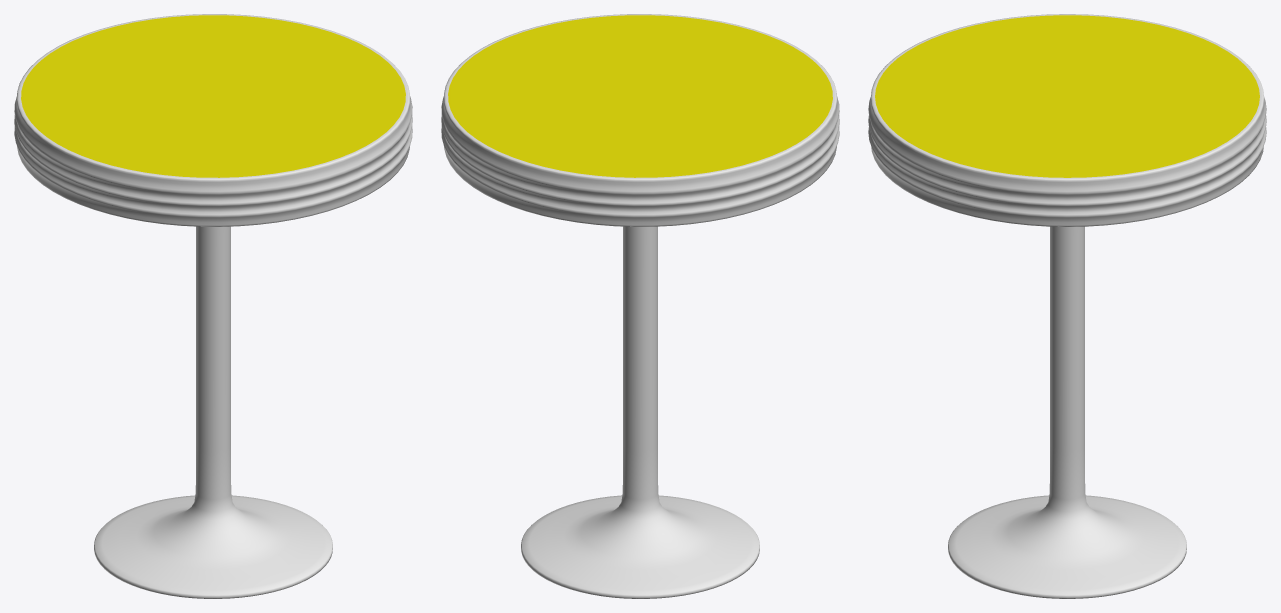
The model's file is metronomicon_v2_table.fbx.
The picture shows the model from 3 angles, left to right: view 1: azimuth 30°, elevation 25°; view 2: azimuth 150°, elevation 25°; view 3: azimuth 270°, elevation 25°; orthographic projection.
Parts seen in each view (by area): view 1: Table; view 2: Table; view 3: Table.
Part boxes in pixels (left/top/right/bottom): Table: left=14, top=14, right=412, bottom=598; Table: left=441, top=14, right=839, bottom=598; Table: left=868, top=14, right=1266, bottom=598.
Size of the model in its own units: 731 by 918 by 731.
